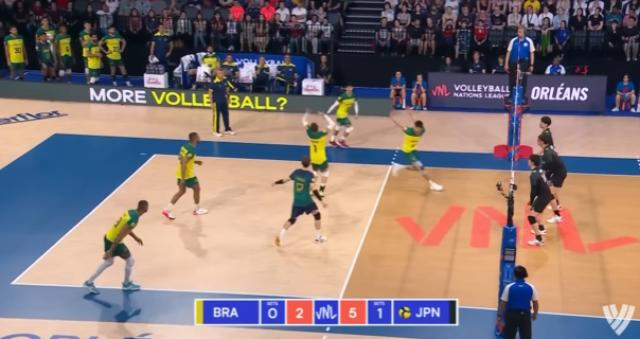Levantador: (299, 98, 341, 190), (538, 111, 556, 147)
Libero: (264, 150, 342, 258)
